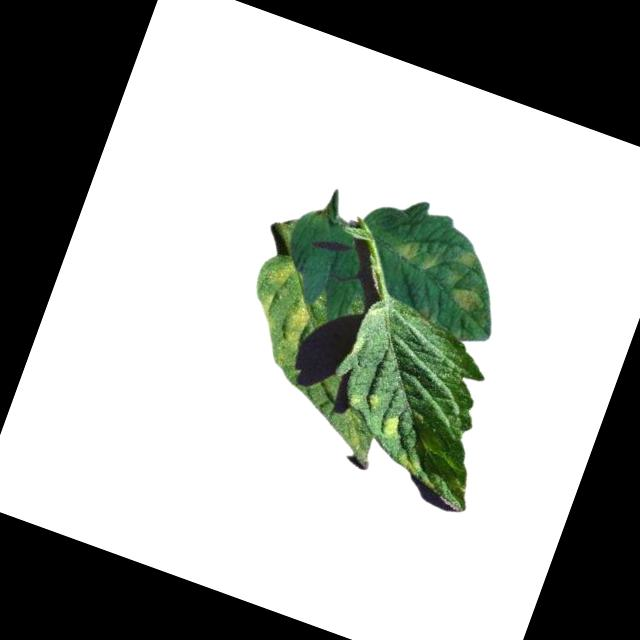Leaf_Mold: (271, 296, 314, 357), (389, 234, 433, 273), (261, 253, 297, 290), (446, 284, 484, 317), (448, 246, 482, 280), (376, 410, 406, 441)
